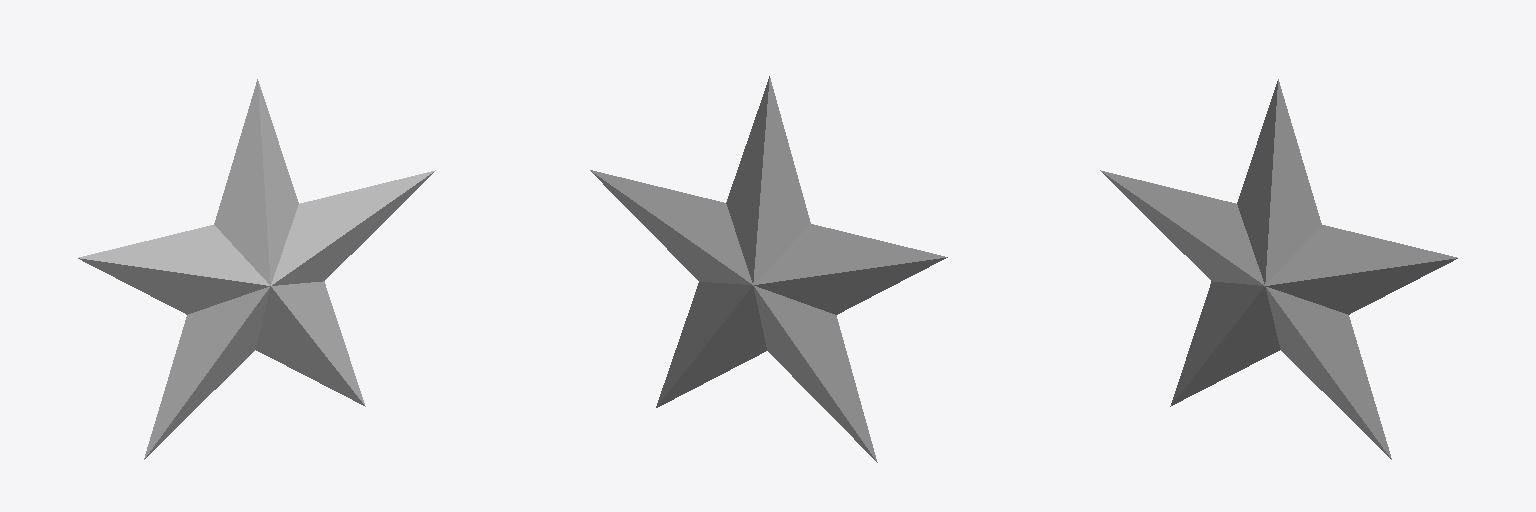
The model's file is Star.obj.
3 renders of one model, left to right at view 1: azimuth 30°, elevation 25°; view 2: azimuth 150°, elevation 25°; view 3: azimuth 330°, elevation 25°, orthographic.
Visible parts, largest first — view 1: Mesh; view 2: Mesh; view 3: Mesh.
Part boxes in pixels (x1,y1,x2,y2): Mesh: (78, 79, 435, 459); Mesh: (590, 76, 947, 462); Mesh: (1100, 79, 1457, 459).
Size of the model in its own units: 4.98 by 4.74 by 0.7079.